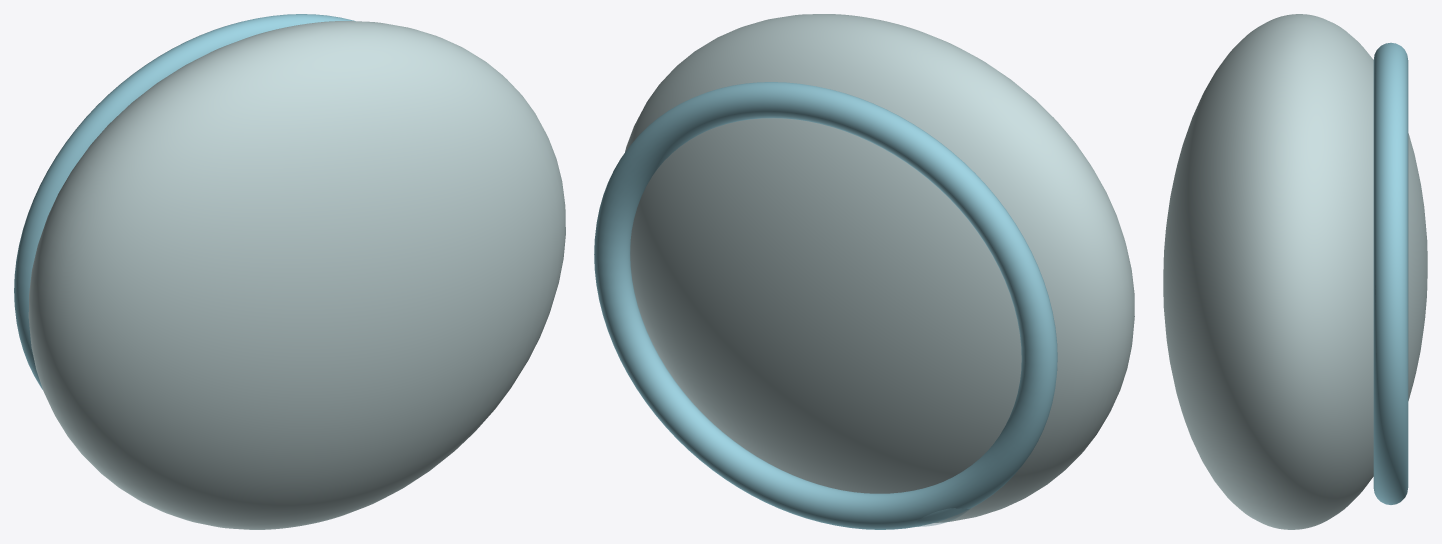
The picture shows the model from 3 angles, left to right: view 1: azimuth 30°, elevation 25°; view 2: azimuth 150°, elevation 25°; view 3: azimuth 270°, elevation 25°; orthographic projection. The views are drawn at different scales.
Parts seen in each view (by area): view 1: dew-lens, dew-lens-seat; view 2: dew-lens, dew-lens-seat; view 3: dew-lens, dew-lens-seat.
Boxes of the visible parts, left/top/right/bottom form: dew-lens: left=28, top=21, right=565, bottom=529; dew-lens-seat: left=14, top=14, right=355, bottom=389; dew-lens: left=625, top=14, right=1134, bottom=522; dew-lens-seat: left=594, top=82, right=1057, bottom=529; dew-lens: left=1163, top=14, right=1427, bottom=529; dew-lens-seat: left=1373, top=42, right=1408, bottom=504.
Size of the model in its own units: 1.52 by 1.38 by 0.721.
